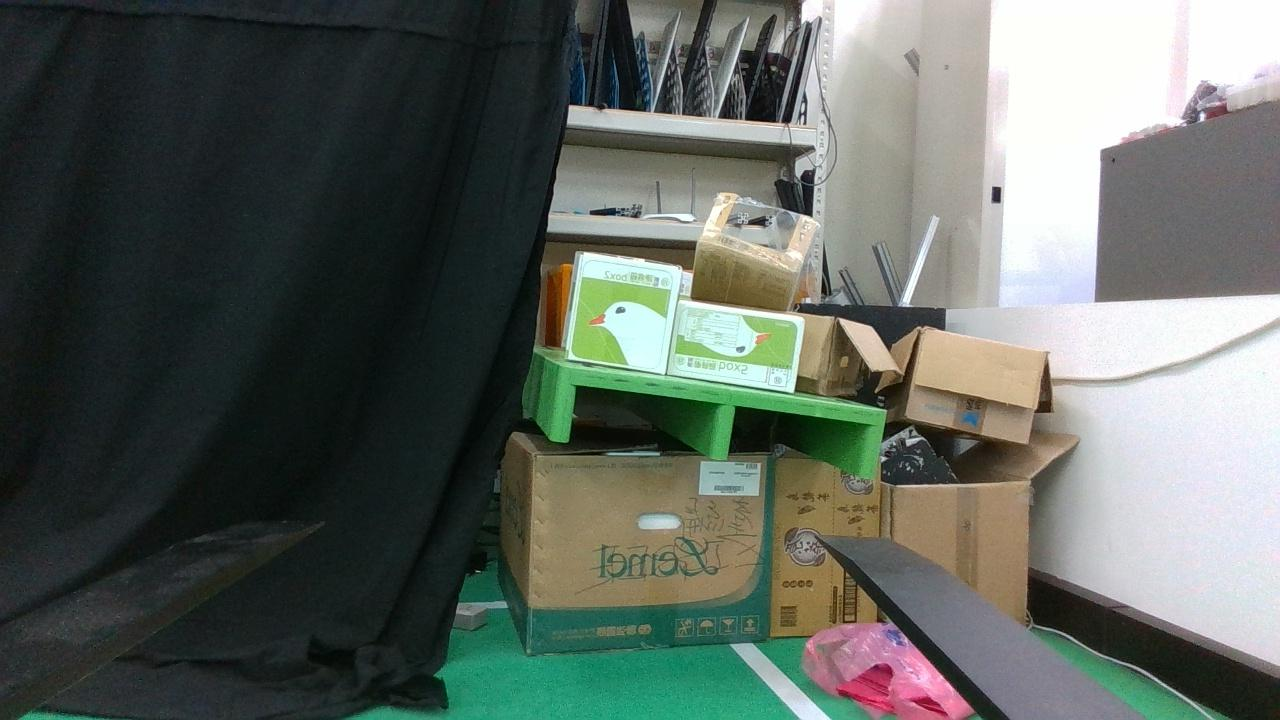Pallet: (549, 367, 889, 479)
